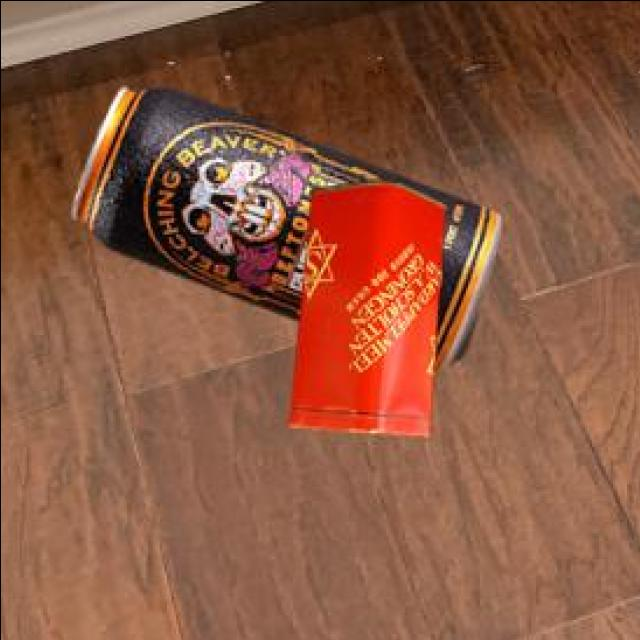logam: (69, 83, 496, 370), (284, 176, 443, 431)
